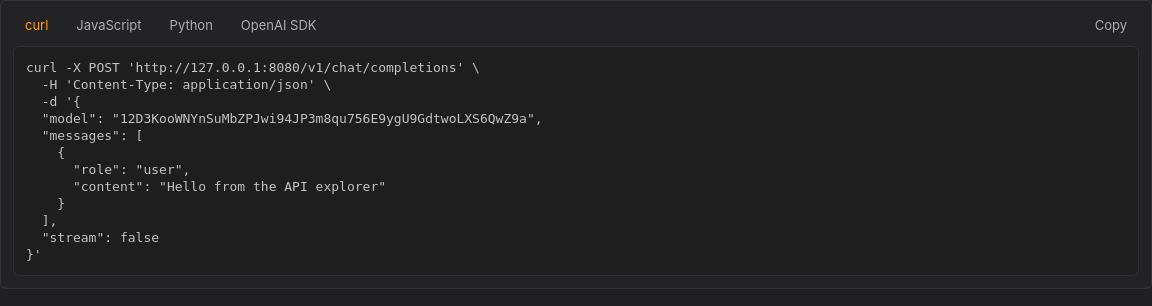
Test: SnippetTabs › defaults to curl and switches language on click
Click the button "Python": (191, 26) [158, 13, 225, 38]
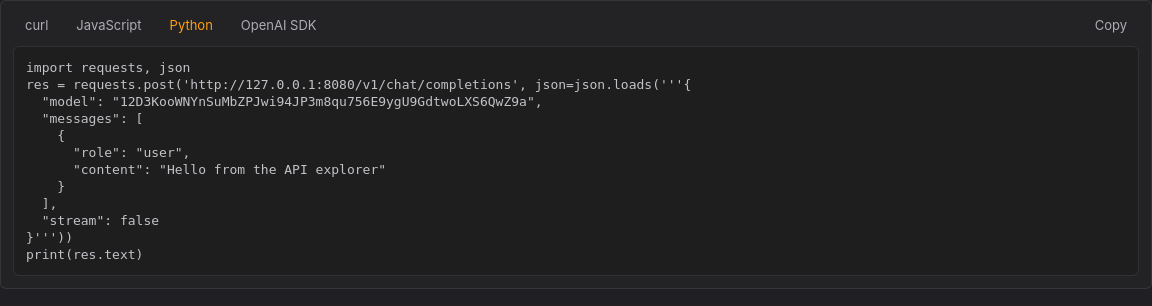
Result: the text "import requests" is shown at [26, 60, 691, 262]
